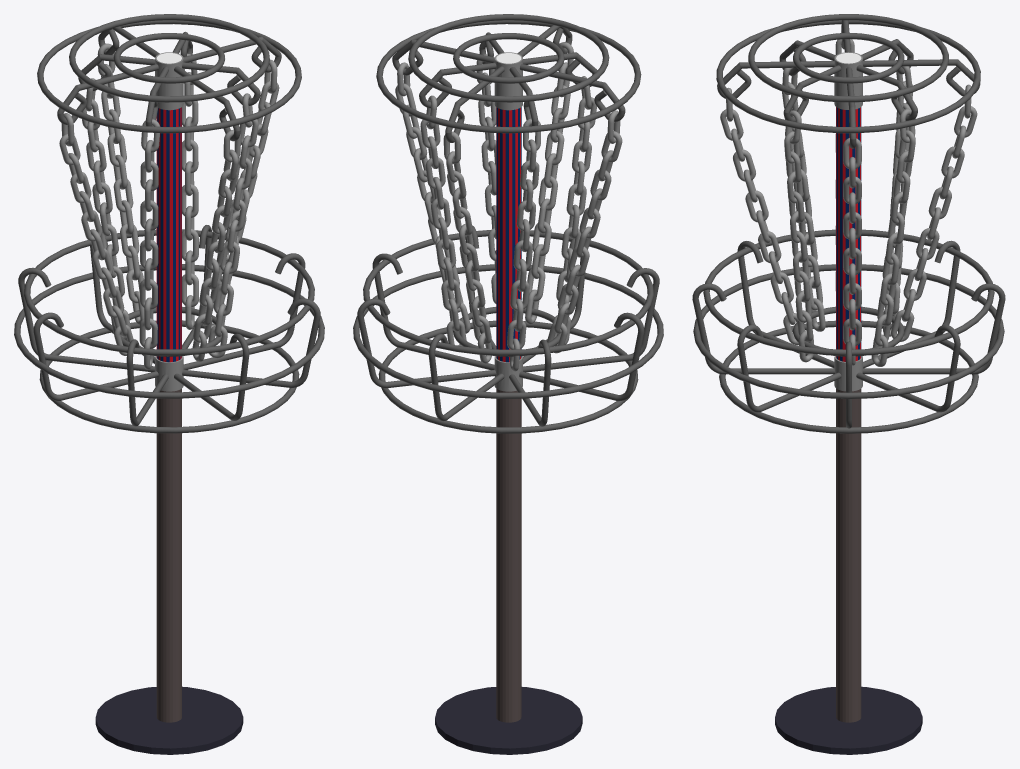
Rendered from new hoop.dae.
The picture shows the model from 3 angles, left to right: view 1: azimuth 30°, elevation 25°; view 2: azimuth 150°, elevation 25°; view 3: azimuth 270°, elevation 25°; orthographic projection.
Visible parts, largest first — view 1: group_0 (×50); view 2: group_0 (×47); view 3: group_0 (×40).
Boxes of the visible parts, left/top/right/bottom form: group_0 (×50): left=14, top=14, right=324, bottom=754; group_0 (×47): left=353, top=14, right=663, bottom=754; group_0 (×40): left=692, top=14, right=1005, bottom=754.
Size of the model in its own units: 24.7 by 24.7 by 58.19.
